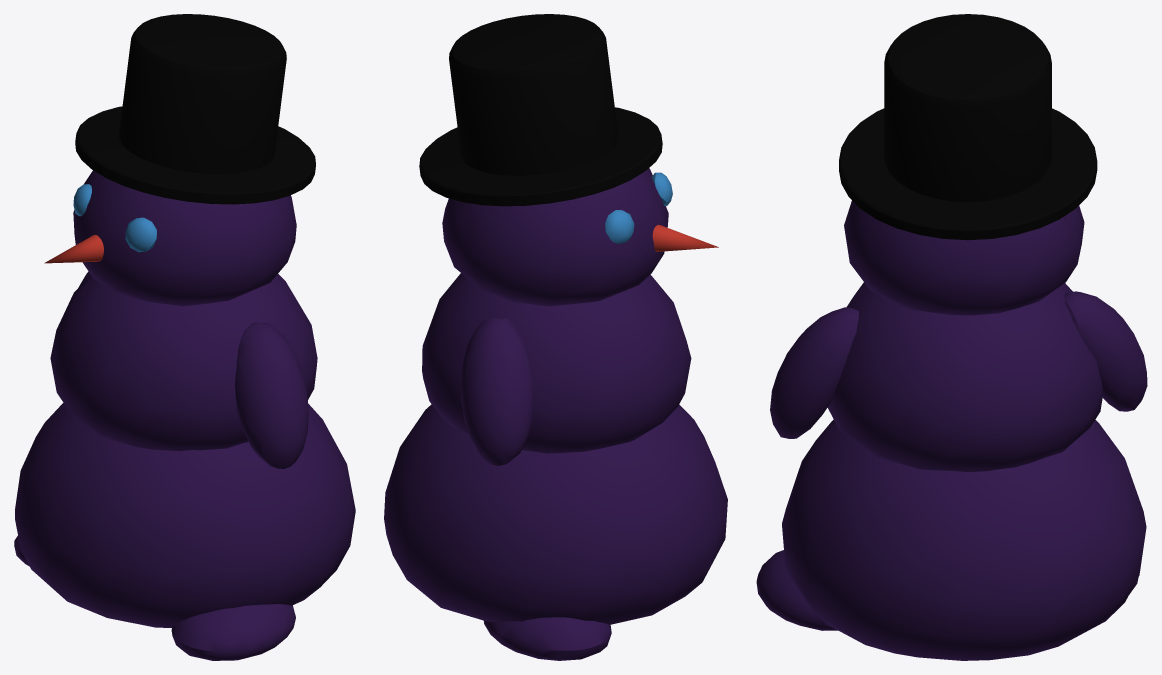
Rendered from Snowman2.fbx.
3 views of the same model, side by side, from view 1: azimuth 30°, elevation 25°; view 2: azimuth 150°, elevation 25°; view 3: azimuth 270°, elevation 25° (orthographic). The views are drawn at different scales.
Visible parts, largest first — view 1: Cylinder; view 2: Cylinder; view 3: Cylinder.
Part boxes in pixels (x1,y1,x2,y2): Cylinder: [14, 14, 355, 660]; Cylinder: [384, 14, 727, 660]; Cylinder: [756, 14, 1147, 660].
Size of the model in its own units: 87.87 by 154 by 93.05.
